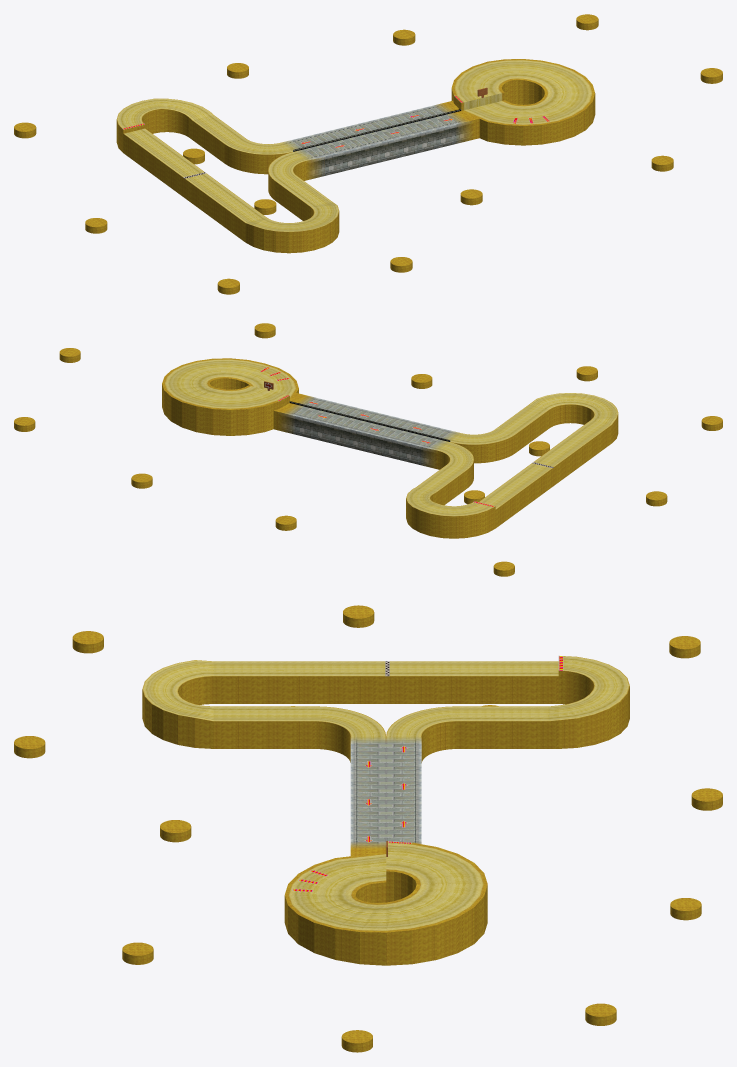
The picture shows the model from 3 angles, top to bottom: view 1: azimuth 30°, elevation 25°; view 2: azimuth 150°, elevation 25°; view 3: azimuth 270°, elevation 25°; orthographic projection. The views are drawn at different scales.
Visible parts, largest first — view 1: Model-SKP--road_edge_wall, Model-SKP--road, Model-SKP--brick, Model-SKP--brick_wall; view 2: Model-SKP--road_edge_wall, Model-SKP--road, Model-SKP--brick, Model-SKP--brick_wall; view 3: Model-SKP--road_edge_wall, Model-SKP--road, Model-SKP--brick.
Part boxes in pixels (left/top/right/bottom): Model-SKP--road_edge_wall: left=14, top=14, right=722, bottom=294; Model-SKP--road: left=116, top=60, right=592, bottom=231; Model-SKP--brick: left=292, top=105, right=457, bottom=158; Model-SKP--brick_wall: left=324, top=125, right=454, bottom=175; Model-SKP--road_edge_wall: left=14, top=323, right=722, bottom=576; Model-SKP--road: left=164, top=359, right=618, bottom=516; Model-SKP--brick: left=293, top=398, right=451, bottom=448; Model-SKP--brick_wall: left=295, top=416, right=420, bottom=464; Model-SKP--road_edge_wall: left=14, top=605, right=722, bottom=1052; Model-SKP--road: left=142, top=656, right=629, bottom=930; Model-SKP--brick: left=350, top=744, right=421, bottom=841.
Size of what is drawn, in the model's own units: 102027 by 5520 by 69814.
Materials: 15 (15 with a texture image).
